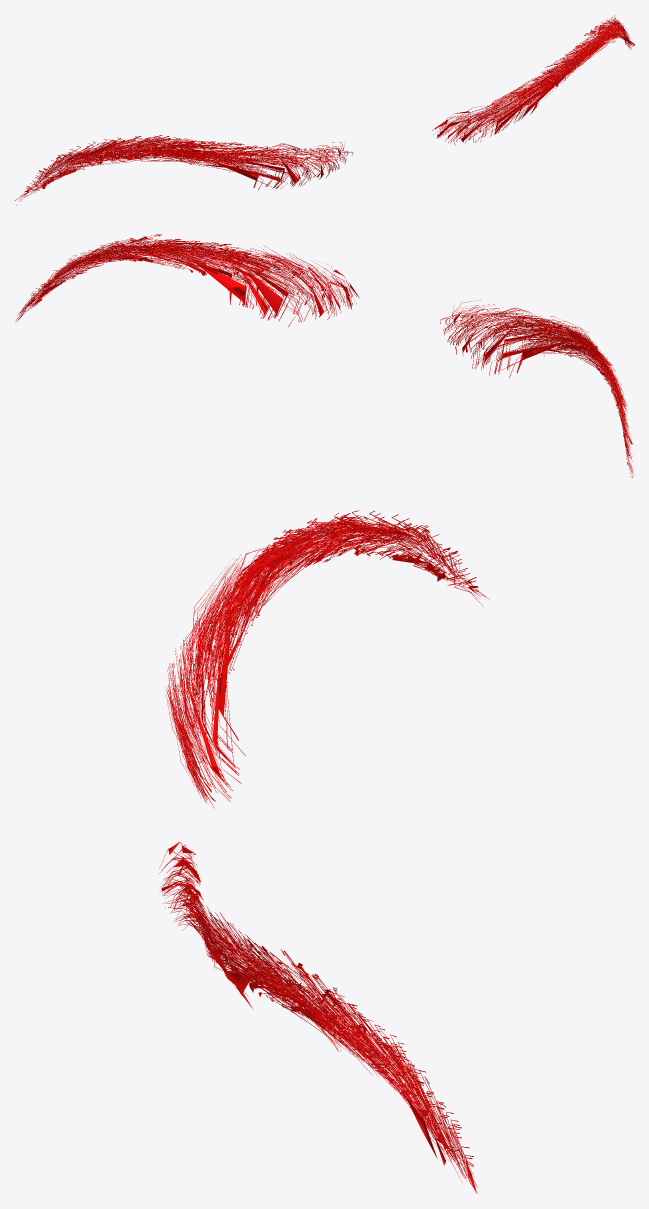
The model's file is mindfront_eyebrows_09_F.glb.
3 renders of one model, top to bottom at view 1: azimuth 30°, elevation 25°; view 2: azimuth 150°, elevation 25°; view 3: azimuth 270°, elevation 25°, orthographic. The views are drawn at different scales.
Bounding box in the file's own units: 0.1207 × 0.0158 × 0.0282.
Materials: 1 (1 with a texture image).
